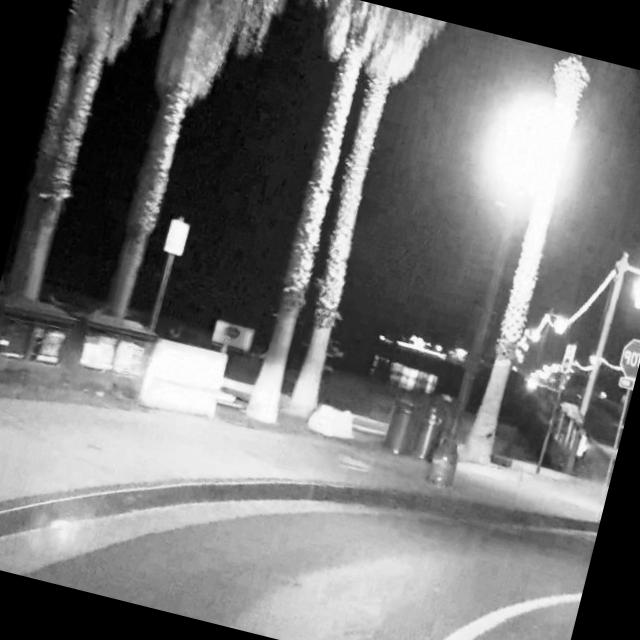Tree: (234, 0, 443, 438), (92, 0, 250, 335), (0, 0, 146, 310)
